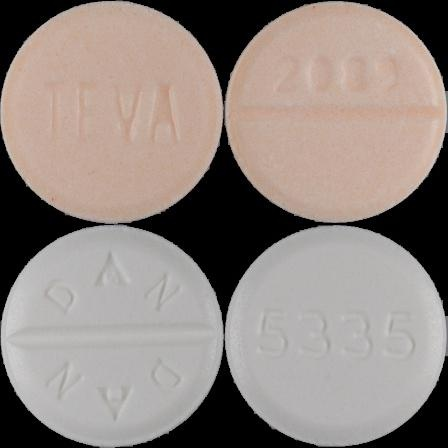68151-2781: (0, 0, 224, 224)
